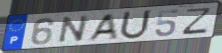5: (154, 8, 181, 37)
6: (30, 17, 56, 46)
A: (85, 12, 120, 43)
N: (56, 14, 92, 45)
U: (118, 9, 153, 41)
Z: (179, 7, 214, 36)
